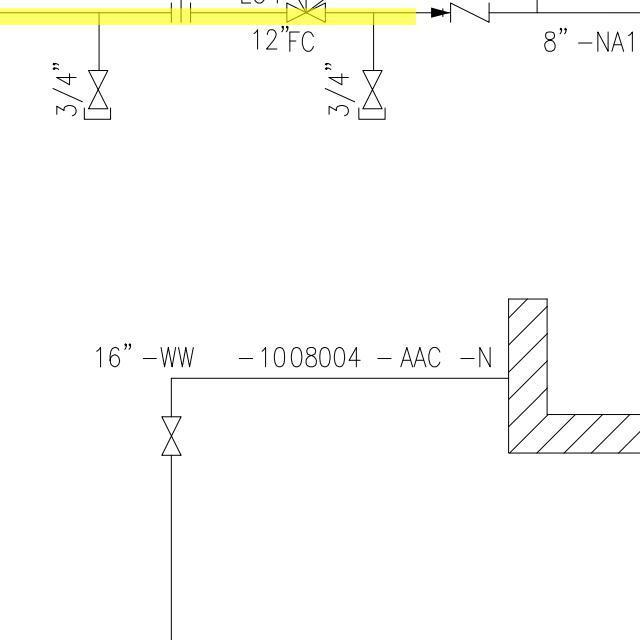EC: (81, 42, 116, 122)
GV: (159, 409, 183, 463), (87, 67, 110, 113), (363, 65, 382, 113)
